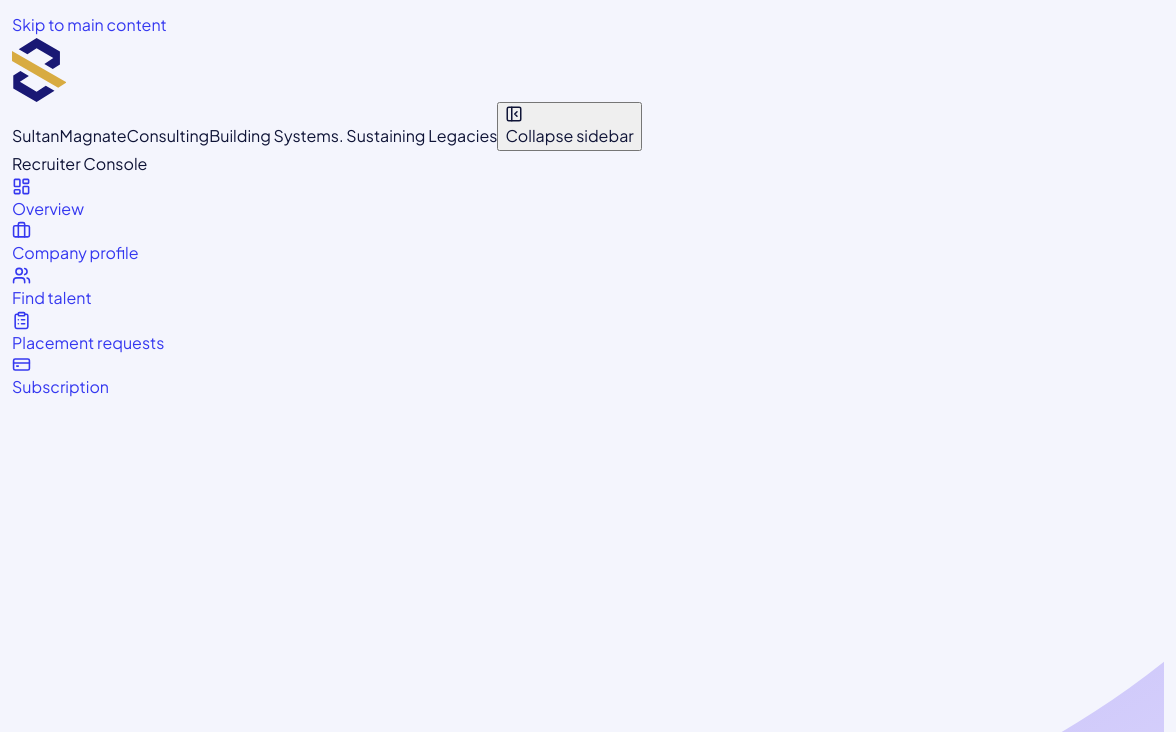
Test: PortalLayout — collapsible sidebar › collapses on click — the one control works the same regardless of screen size
This screenshot has width=1176, height=732.
Click the button "Collapse sidebar" at [570, 126], box [498,102,642,151]
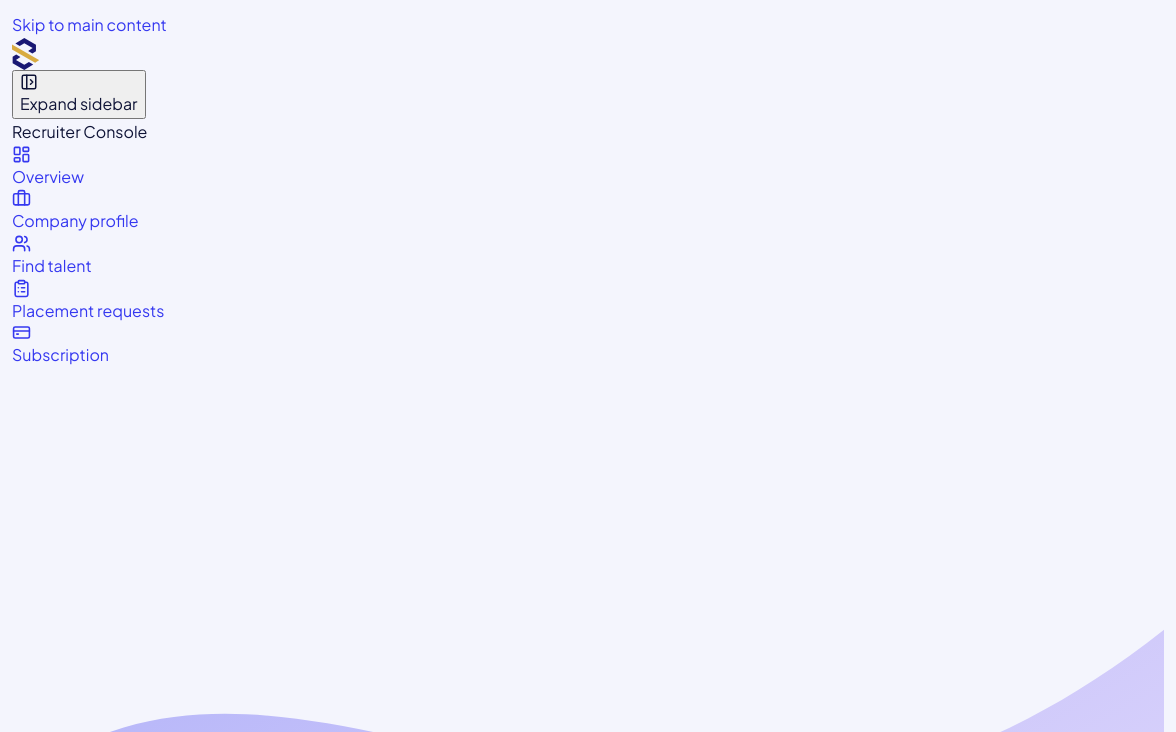
Expected: the link "Find talent" is shown, [12,234,92,276]
Expected: the button "Expand sidebar" is collapsed, [12,70,146,119]
